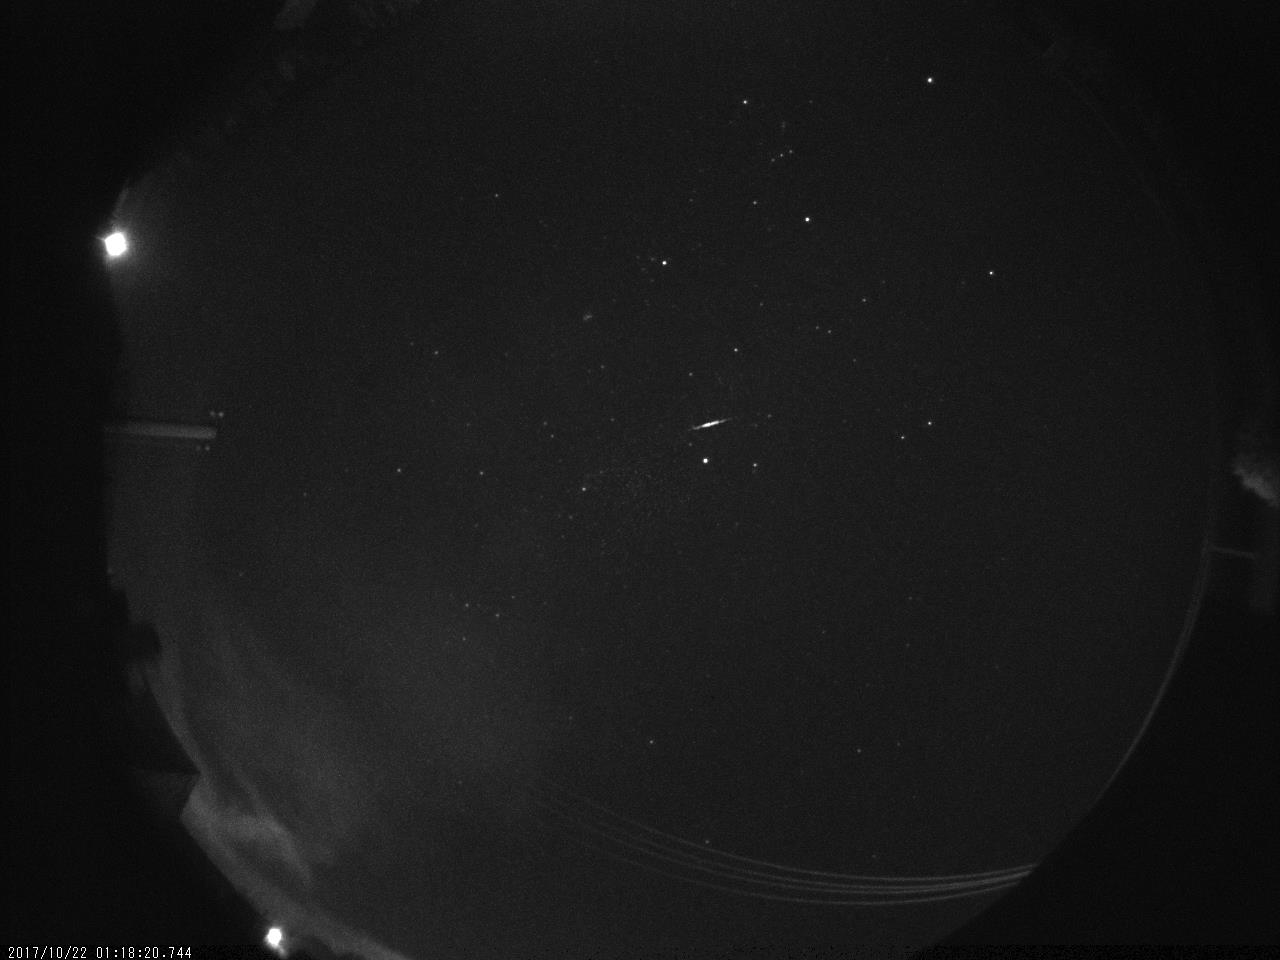meteor: (678, 409, 750, 441)
